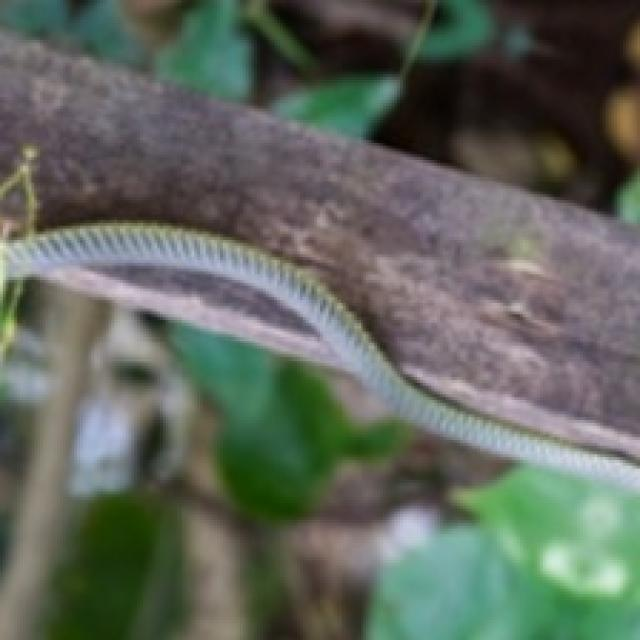paradise tree snake: (0, 223, 637, 489)
